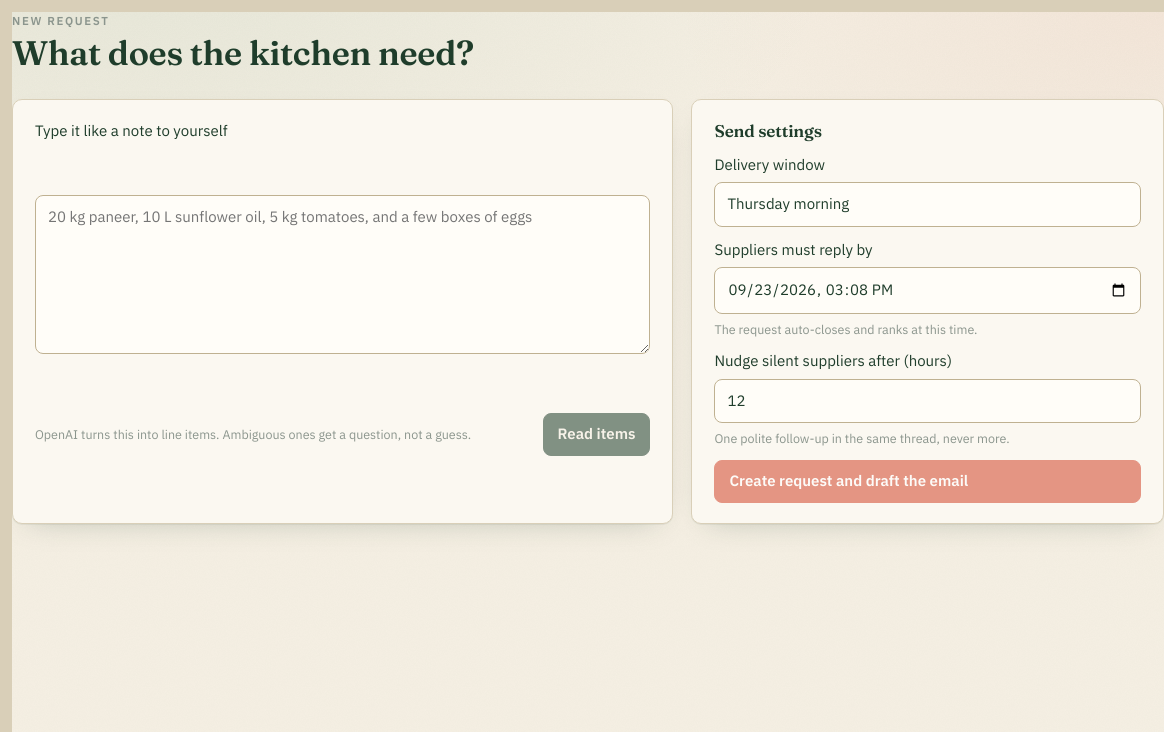
NewRequest › surfaces a parse failure as a toast instead of crashing
The width and height of the screenshot is (1164, 732).
Type "anything" into the text box labelled "Type it like a note to yourself" at (343, 275), box [35,195,650,354]
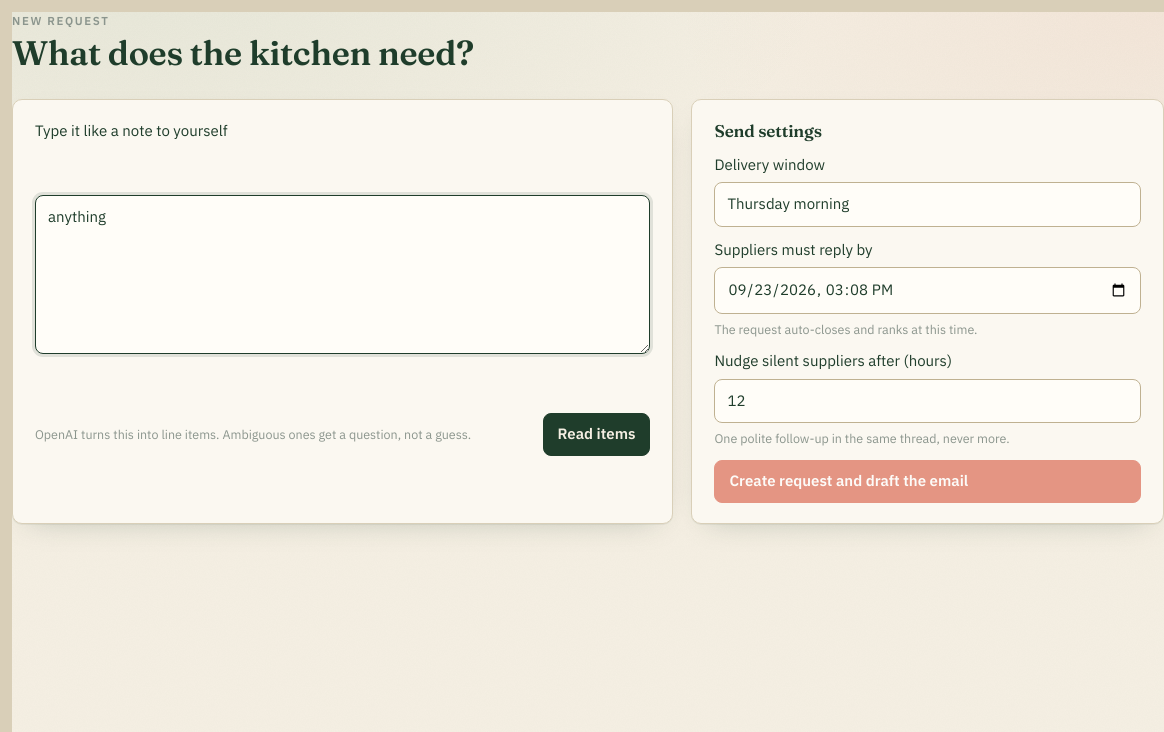
Click the button "Read items" at (597, 434), box [543,413,650,456]
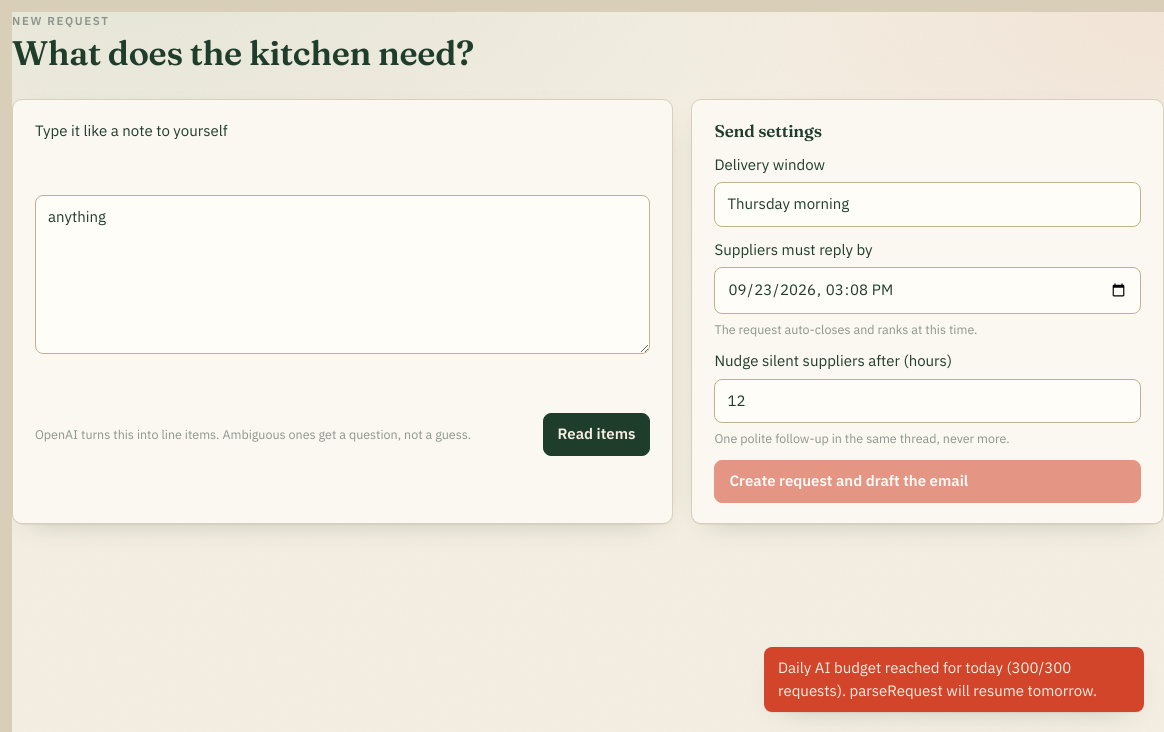
Expected: the text "Daily AI budget reached" is shown, [778,658,1097,700]
